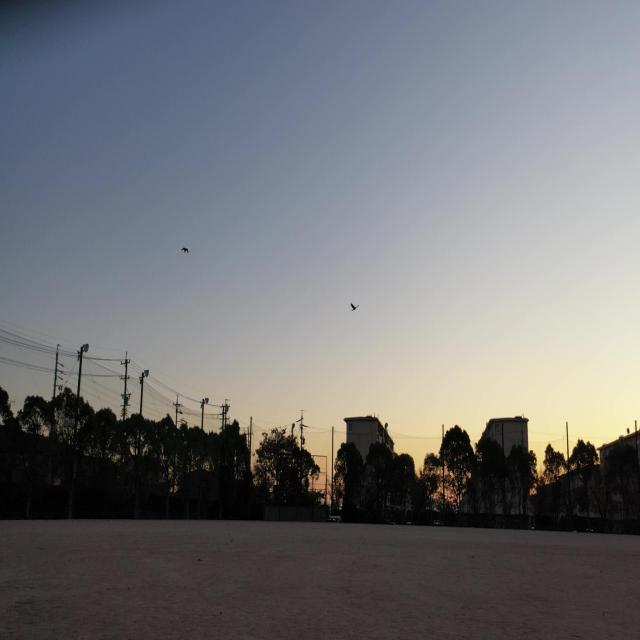Birds: (180, 244, 190, 255), (350, 302, 360, 310)
